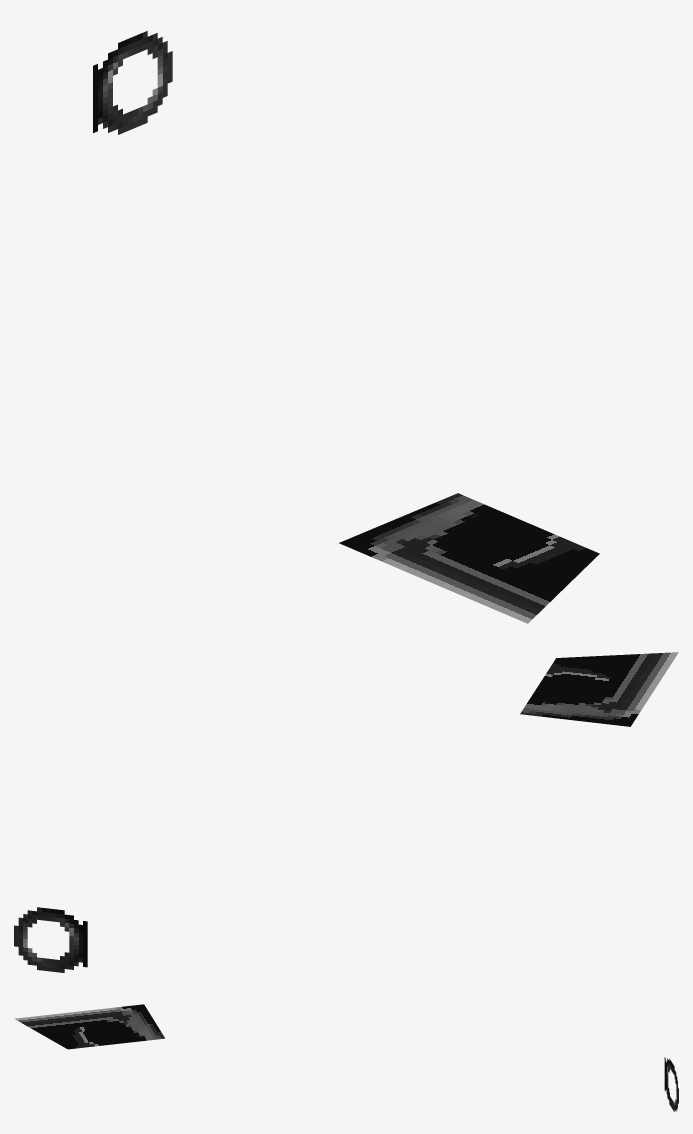
The model's file is secondary_038.glb.
3 renders of one model, top to bottom at view 1: azimuth 30°, elevation 25°; view 2: azimuth 150°, elevation 25°; view 3: azimuth 270°, elevation 25°, orthographic. The views are drawn at different scales.
Visible parts, largest first — view 1: Object; view 2: Object; view 3: Object.
Part boxes in pixels (x1,y1,x2,y2): Object: (93,31,599,623); Object: (14,652,678,972); Object: (14,1004,678,1111).
Bounding box in the file's own units: 0.129 × 0.0328 × 0.4026.
Materials: 2 (2 with a texture image).
